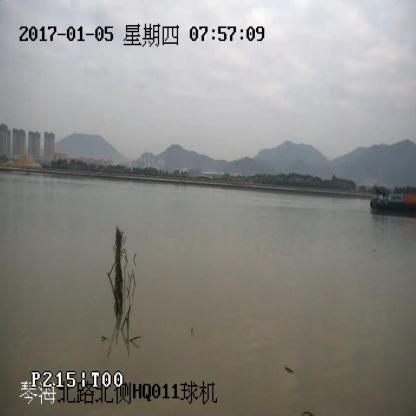Container Ship: (369, 195, 416, 216)
